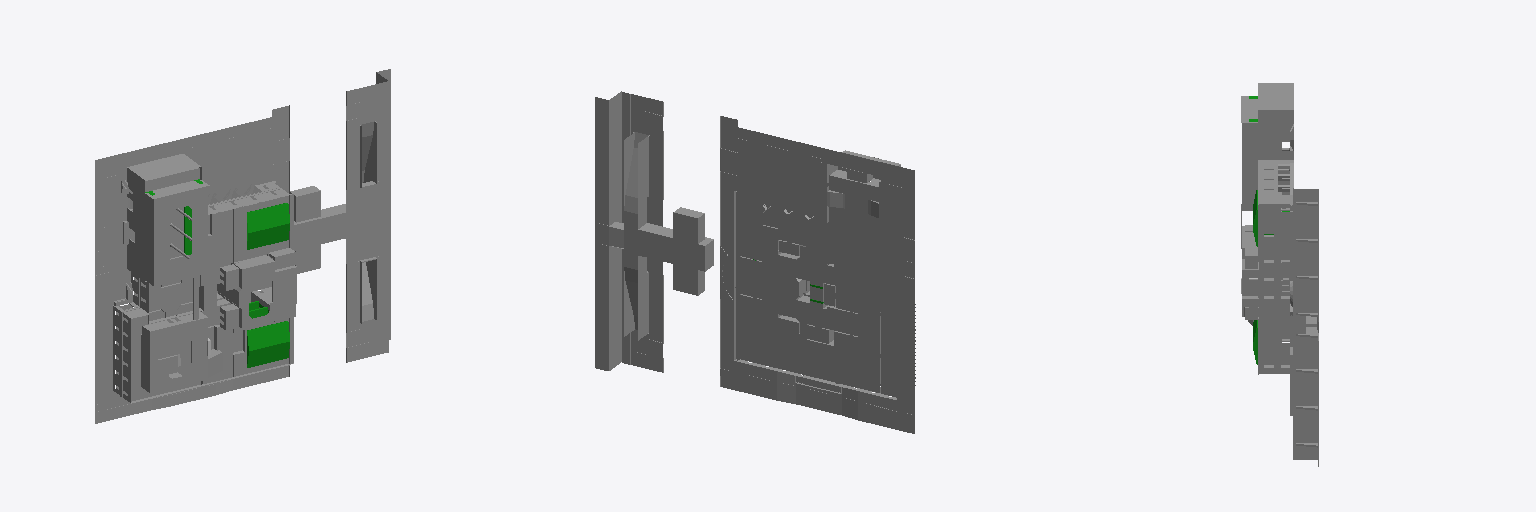
The model's file is aucman_main.obj.
3 views of the same model, side by side, from view 1: azimuth 30°, elevation 25°; view 2: azimuth 150°, elevation 25°; view 3: azimuth 270°, elevation 25° (orthographic).
Parts seen in each view (by area): view 1: g_main_ext, g_main_int, g_skylight_left_cover, g_skylight_right_cover; view 2: g_main_ext, g_main_int; view 3: g_main_ext, g_main_int.
Boxes of the visible parts, box(x1,y1,x2,y2) form: g_main_ext: box(95, 69, 390, 423); g_main_int: box(116, 167, 296, 401); g_skylight_left_cover: box(247, 321, 289, 367); g_skylight_right_cover: box(247, 203, 289, 249); g_main_ext: box(595, 91, 915, 433); g_main_int: box(740, 166, 896, 397); g_main_ext: box(1241, 83, 1318, 466); g_main_int: box(1241, 96, 1293, 368).
Size of the model in its own units: 8725 by 7350 by 1900.